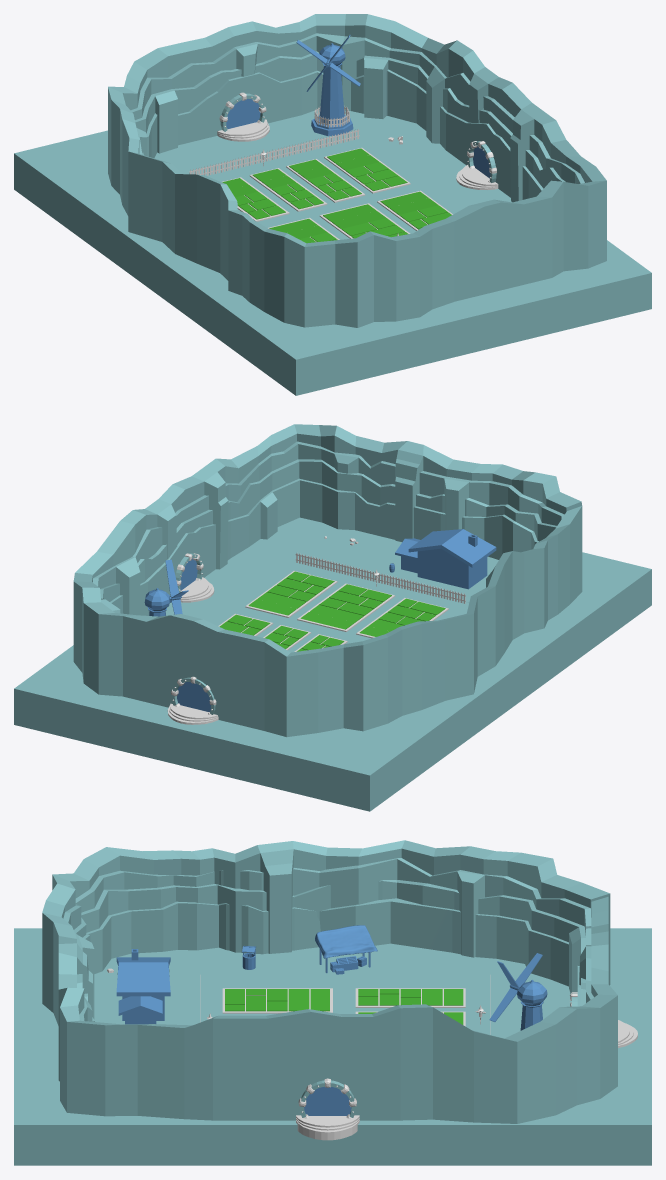
Rendered from Farming Chunk.fbx.
3 renders of one model, top to bottom at view 1: azimuth 30°, elevation 25°; view 2: azimuth 150°, elevation 25°; view 3: azimuth 270°, elevation 25°, orthographic. The views are drawn at different scales.
Visible parts, largest first — view 1: Plane.052, Foundation Low Poly Flat, Plane.049, Plane.051, Plane.050, Tower, Plane.065, Plane.059, Plane.056, Plane.066, Plane.067, Plane.069 (+2 smaller); view 2: Plane.052, Foundation Low Poly Flat, Plane.049, Plane.051, Plane.050, Plane.059, Cube.133, Plane.056, Cube.134, Plane.060, Gate Low Poly.014, Plane.065 (+1 smaller); view 3: Plane.052, Foundation Low Poly Flat, Plane.049, Plane.051, Plane.050, Plane.060, Cube.134, Plane.069, Canvas.002, Gate Low Poly.015, Tower, Blades (+5 smaller).
Part boxes in pixels (<box>): Plane.052: <box>108,14,606,327</box>; Foundation Low Poly Flat: <box>14,109,651,395</box>; Plane.049: <box>146,69,543,199</box>; Plane.051: <box>131,33,584,183</box>; Plane.050: <box>135,51,565,188</box>; Tower: <box>311,43,353,136</box>; Plane.065: <box>327,148,407,190</box>; Plane.059: <box>323,204,408,238</box>; Plane.056: <box>380,191,451,229</box>; Plane.066: <box>289,159,361,200</box>; Plane.067: <box>252,169,323,209</box>; Plane.069: <box>222,178,285,219</box>; Plane.052: <box>73,424,582,737</box>; Foundation Low Poly Flat: <box>14,517,651,811</box>; Plane.049: <box>110,478,538,615</box>; Plane.051: <box>92,441,564,615</box>; Plane.050: <box>100,459,556,601</box>; Plane.059: <box>300,584,391,629</box>; Cube.133: <box>417,548,487,589</box>; Plane.056: <box>248,571,334,615</box>; Cube.134: <box>408,529,496,567</box>; Plane.060: <box>359,598,445,636</box>; Gate Low Poly.014: <box>177,682,210,711</box>; Plane.065: <box>219,614,270,635</box>; Plane.052: <box>42,840,617,1123</box>; Foundation Low Poly Flat: <box>14,928,651,1165</box>; Plane.049: <box>83,898,580,1006</box>; Plane.051: <box>63,858,593,1021</box>; Plane.050: <box>73,880,585,1021</box>; Plane.060: <box>225,989,329,1011</box>; Cube.134: <box>116,957,170,996</box>; Plane.069: <box>358,989,463,1005</box>; Canvas.002: <box>315,925,377,958</box>; Gate Low Poly.015: <box>304,1087,351,1115</box>; Tower: <box>517,979,547,1030</box>; Blades: <box>489,953,542,1021</box>.
Size of the model in its own units: 10800 by 3792 by 14121.
